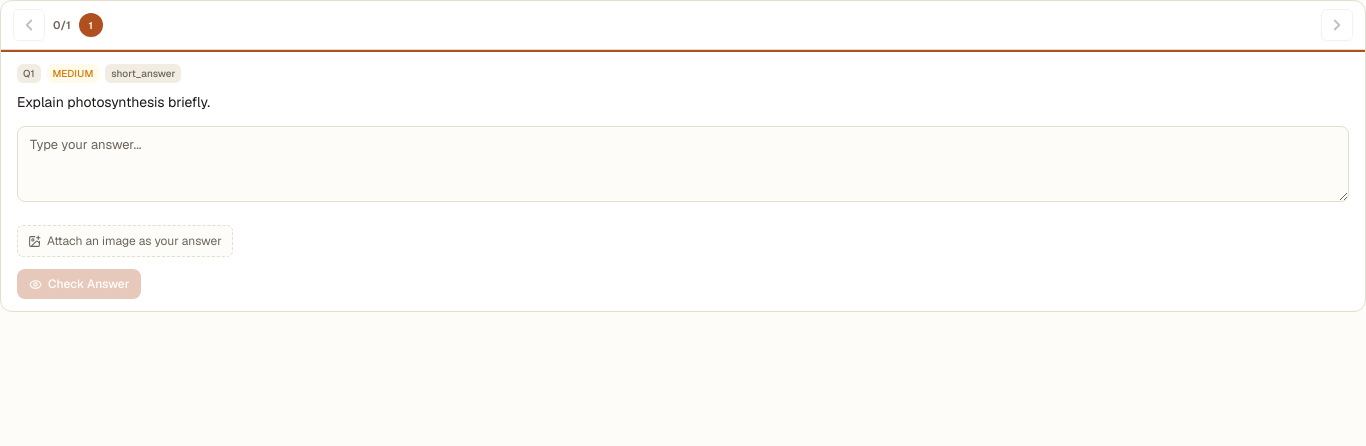
Test: QuizViewer smoke › streams AI judge feedback into the judgment view (mock API)
Type "Light becomes sugar." into the text box with placeholder "Type your answer...".
click(683, 164); type("Light becomes sugar.")  # box [17, 126, 1349, 202]
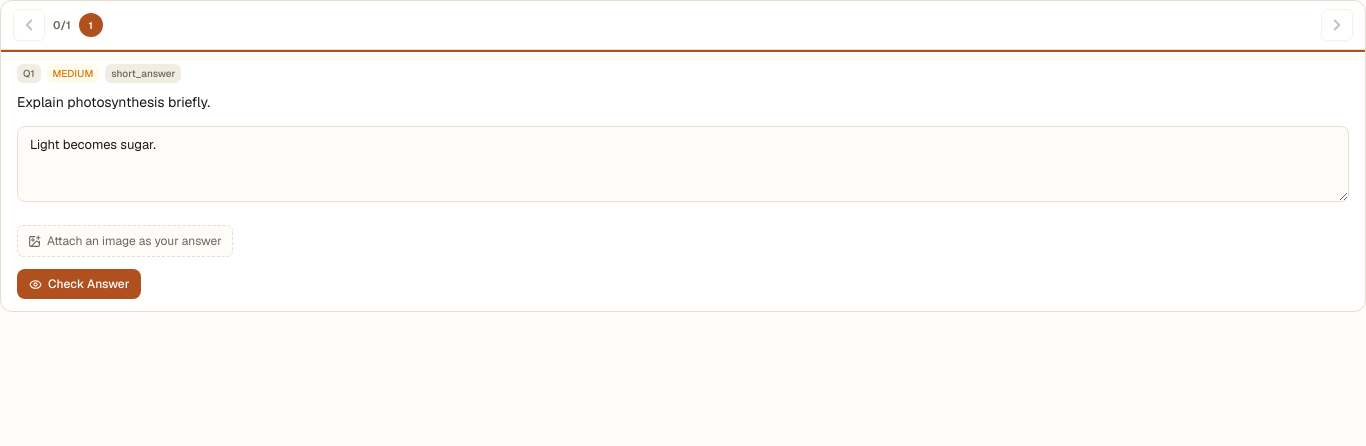
Click the button "Check Answer".
click(79, 284)  # box [17, 269, 141, 299]
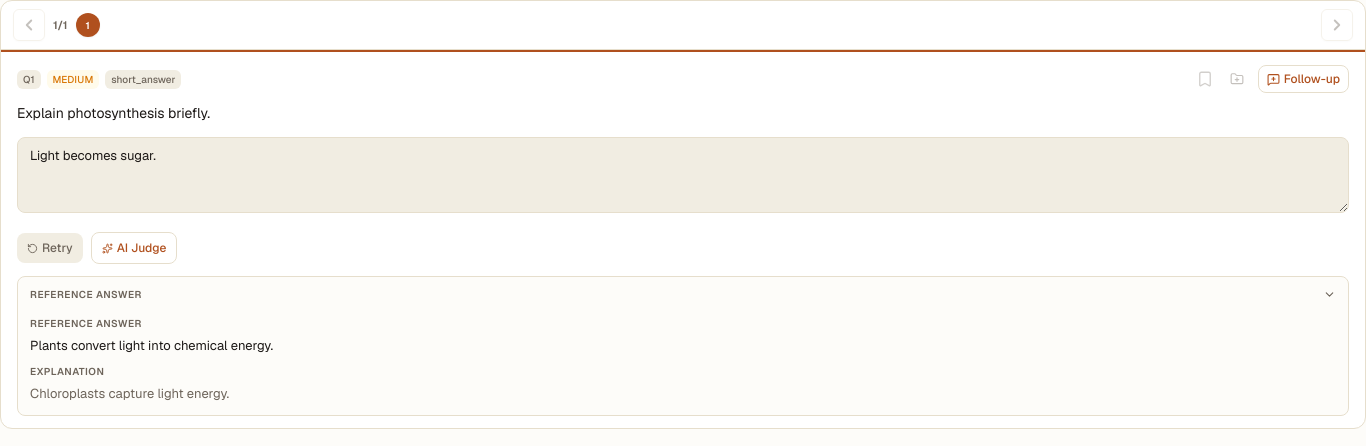
Expected: the 1st text "Reference Answer" is shown, [30, 287, 142, 302]
Expected: the text "Plants convert light into chemical energy." is shown, [30, 337, 273, 354]
Click the button "AI Judge".
click(134, 248)  # box [91, 232, 177, 264]
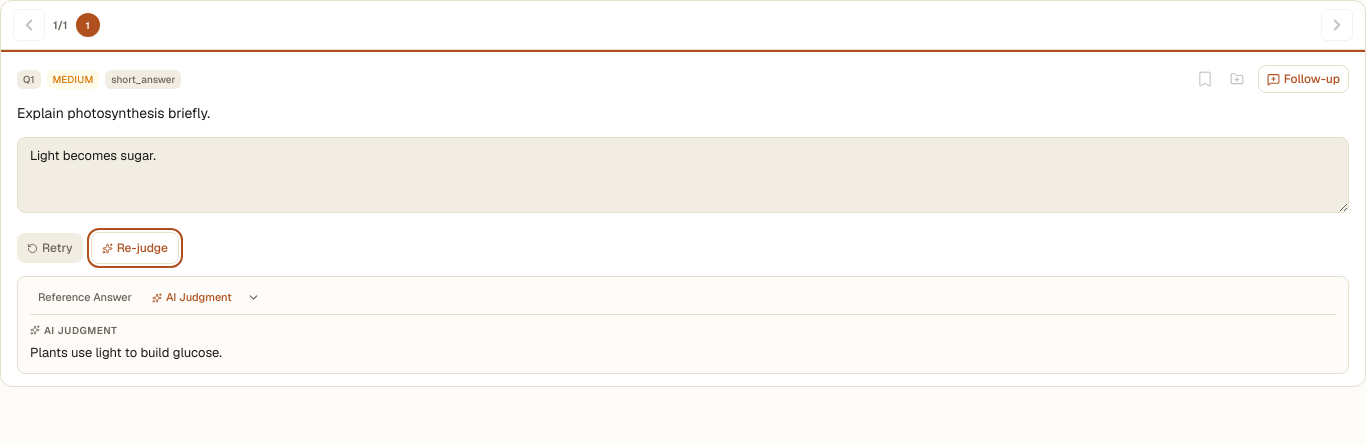
Expected: the text "Plants use light to build glucose." is shown, [30, 344, 222, 361]
Expected: the text "Plants convert light into chemical energy." is gone
